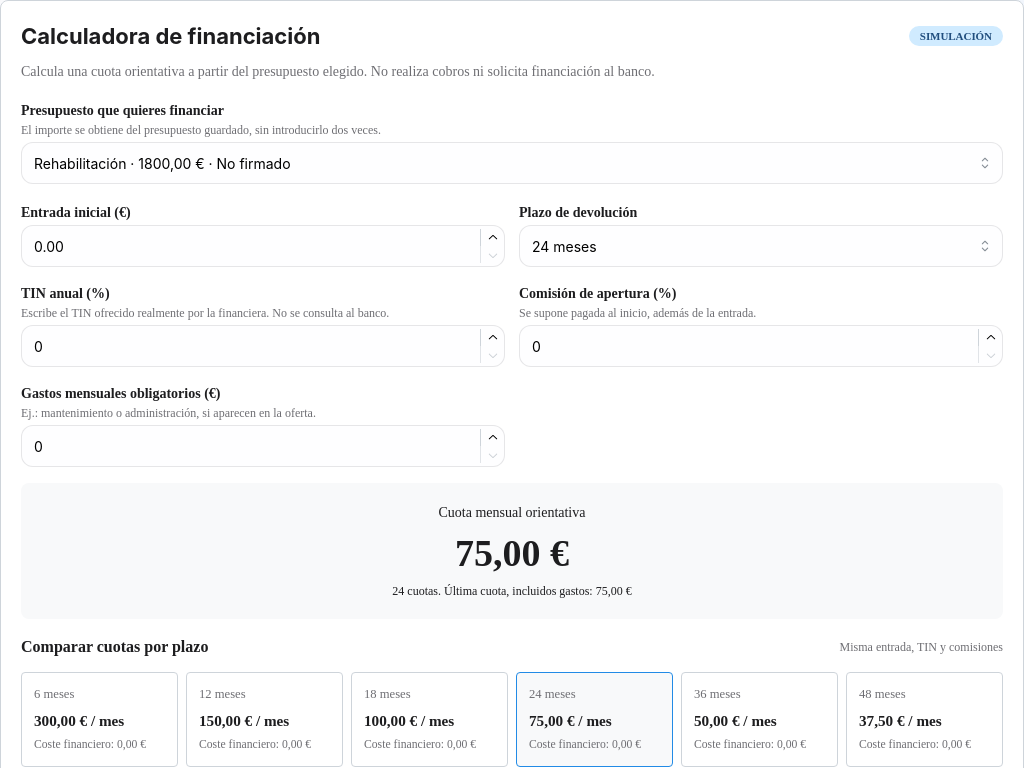
Test: financiación a continuación del presupuesto › compara varios plazos, recalcula al pulsar y no permite enviar préstamos
Expected: the button "36 meses 50,00 € / mes Coste financiero: 0,00 €" is shown, [681, 672, 838, 767]
What coordinates should you click on to do the following:
click the button "12 meses 150,00 € / mes Coste financiero: 0,00 €"
I would click on:
 (264, 720)
Its box is [186, 672, 343, 767].
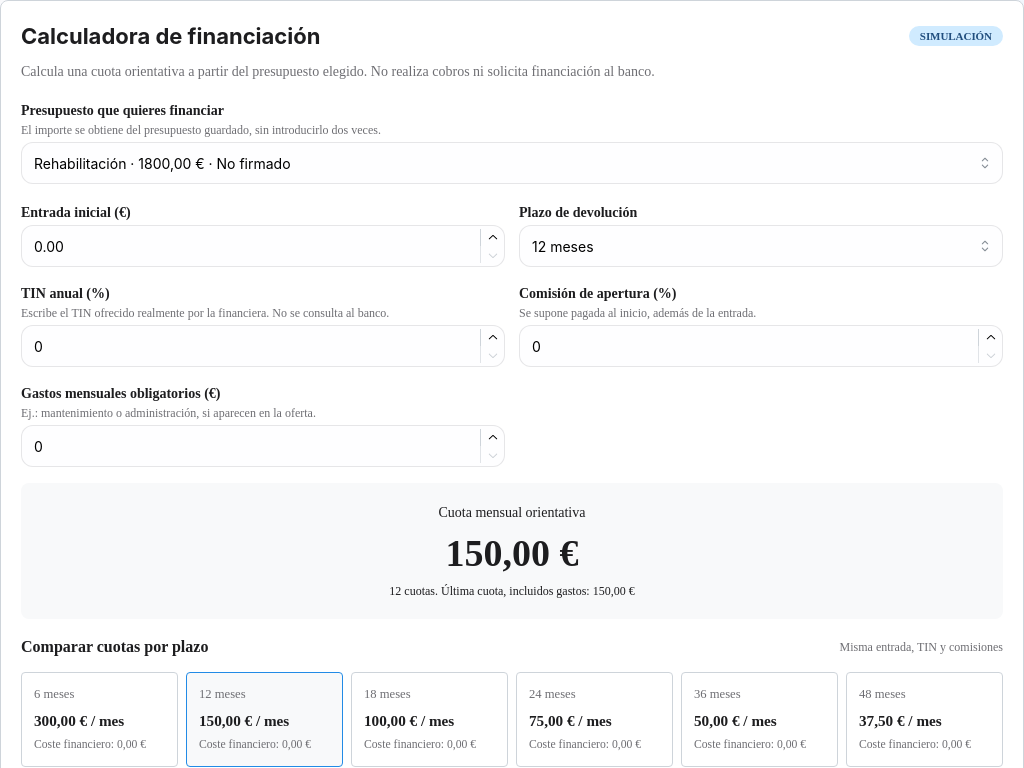
Expected: the text "No realiza cobros ni solicita financiación" is shown, [21, 64, 655, 79]
Expected: the text "12 cuotas. Última cuota, incluidos gastos: 150,00 €" is shown, [389, 584, 635, 598]
